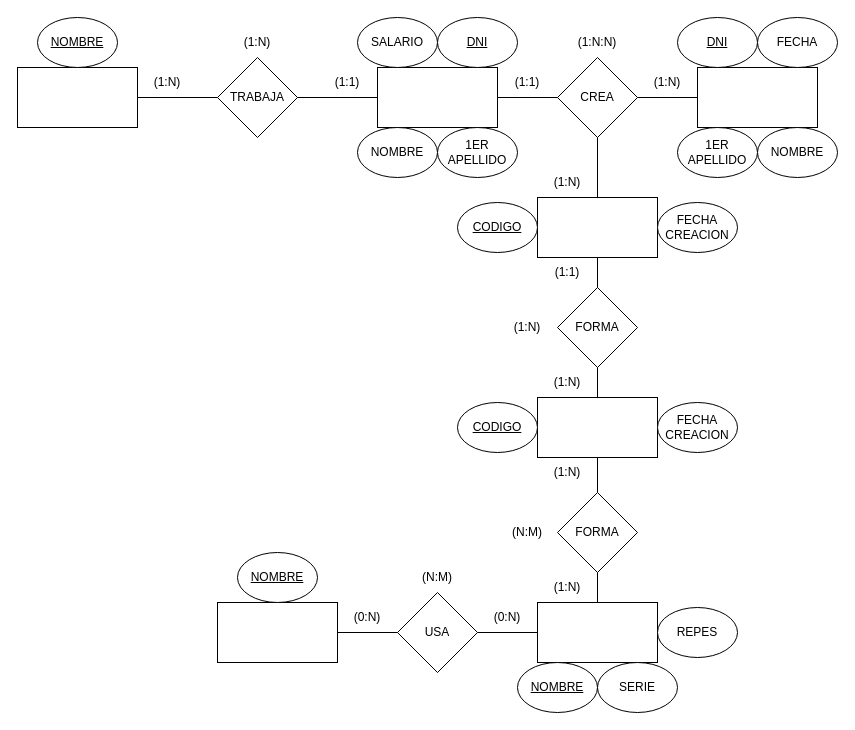
Some shapes in this 855 by 730 pixel diagram are drawn without their labels. Each missing label, with the centre of its shape:
"CLIENTE" belongs at [757,97].
"EJERCICIO" belongs at [597,632].
"ENTRENADOR" belongs at [437,97].
"ENTRENAMIENTO" belongs at [597,427].
"GIMNASIO" belongs at [77,97].
"MATERIAL" belongs at [277,632].
"PLANIFICACION" belongs at [597,227].
